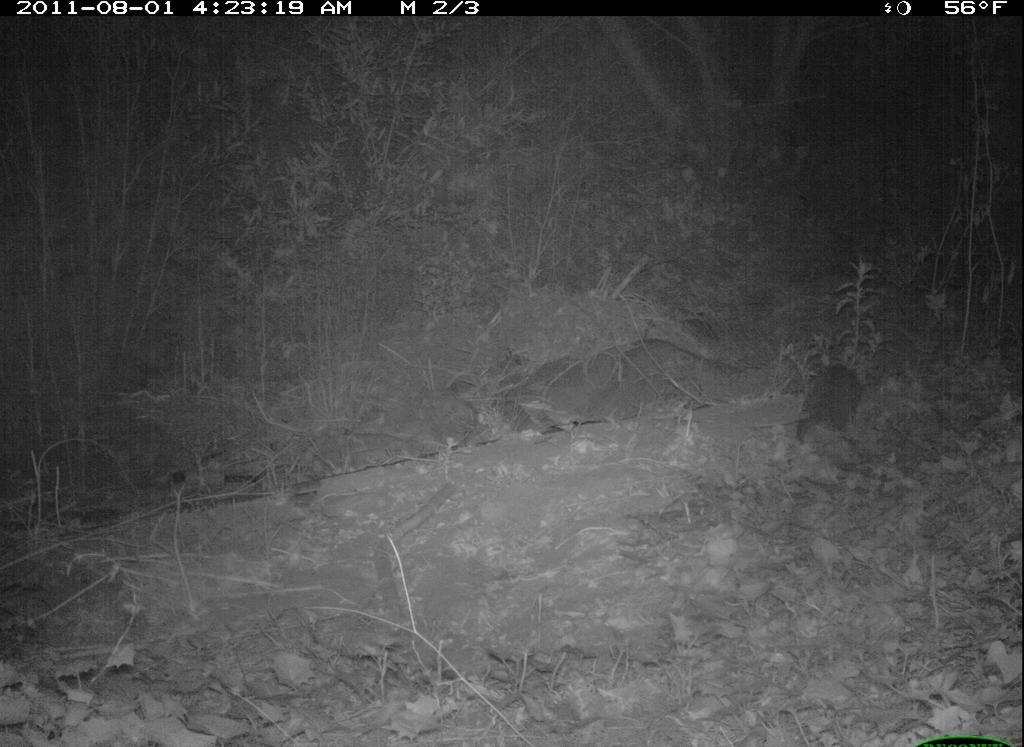opossum: (749, 356, 873, 457)
